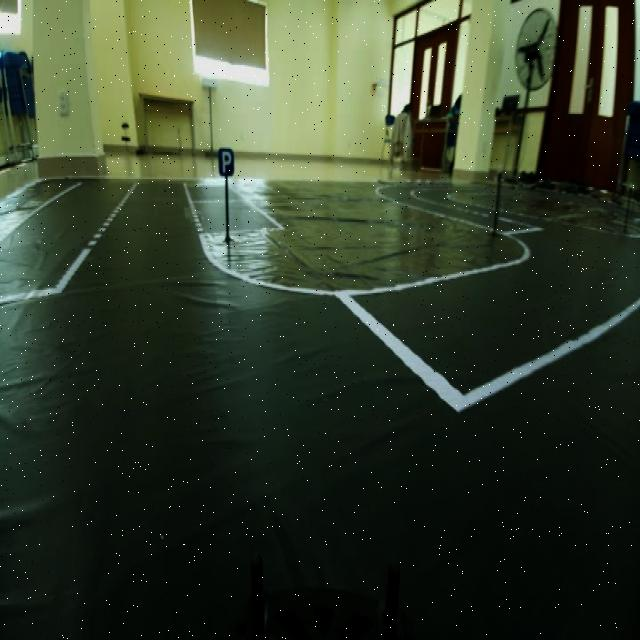parking: (217, 142, 235, 176)
